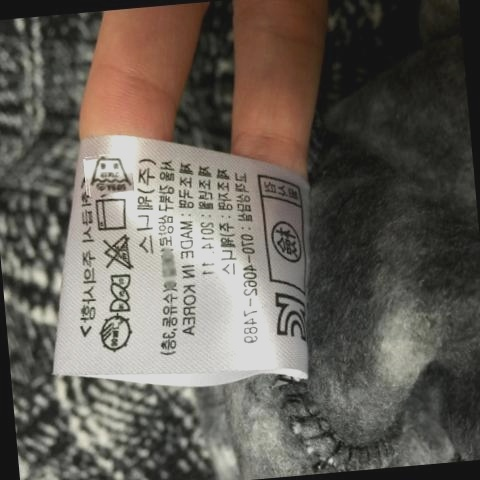DN_bleach: (99, 235, 134, 270)
hand_wash: (89, 155, 132, 193)
machine_wash: (93, 198, 131, 232)
shade_dry: (97, 315, 133, 355)
wring: (103, 273, 135, 314)
